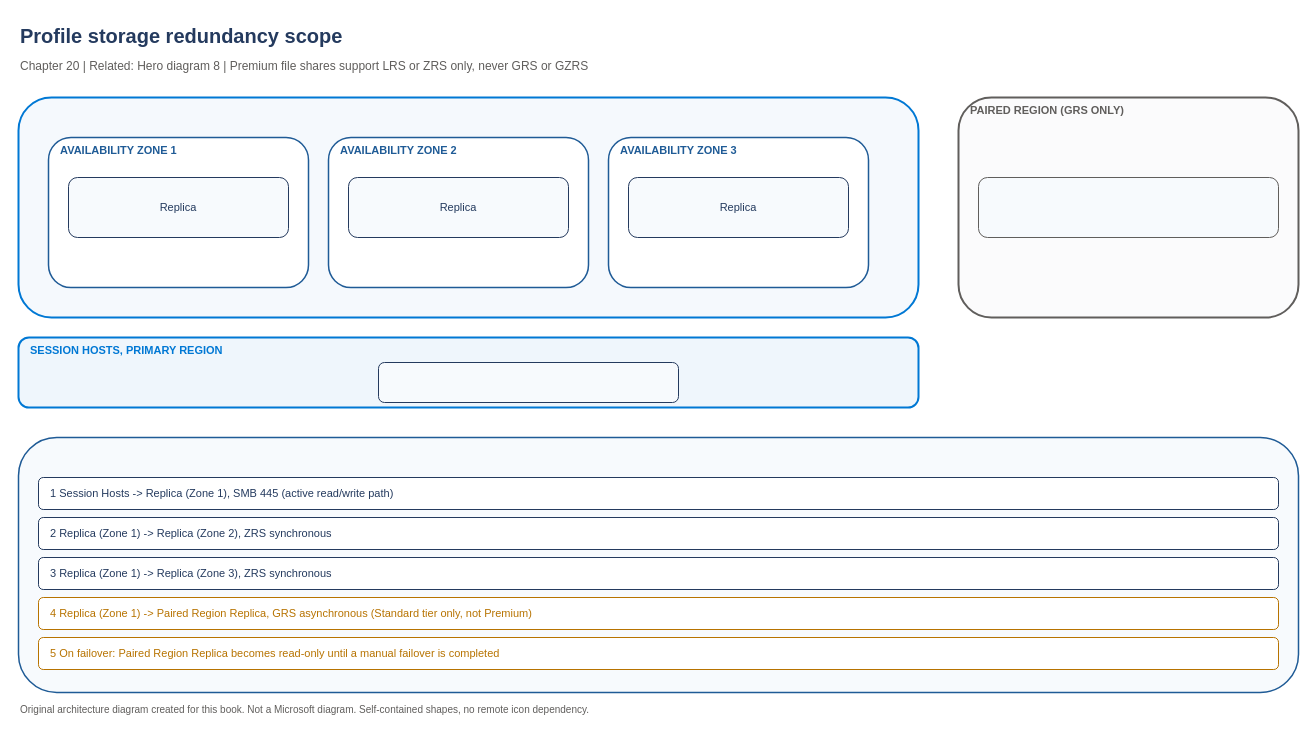
The diagram is 1316 pixels wide and 734 high, and some of its shapes have lost their labels. The box of each missing label's shape, as (x1, y1, x2, y2) in pixels:
FLOWS, IN ORDER: (17, 436, 1299, 693)
PRIMARY REGION: (17, 96, 919, 318)
Replica GRS asynchronous, if enabled: (978, 176, 1278, 238)
Session Hosts: (378, 362, 678, 402)
